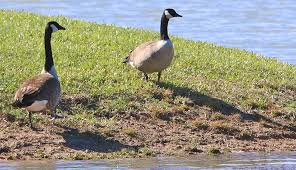goose: (8, 20, 67, 133), (122, 8, 183, 87)
